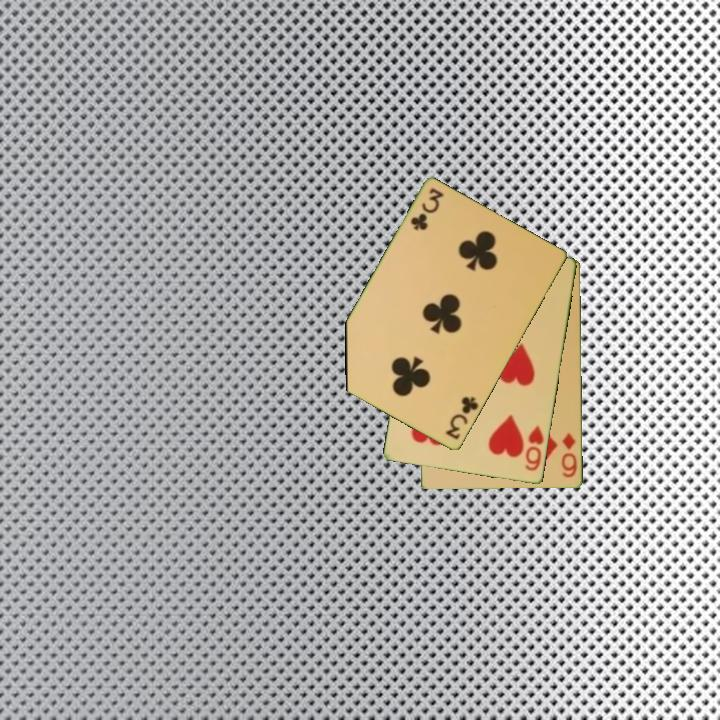3c: (442, 393, 482, 443), (407, 185, 447, 234)
6d: (558, 430, 580, 481)
6h: (522, 422, 547, 474)
